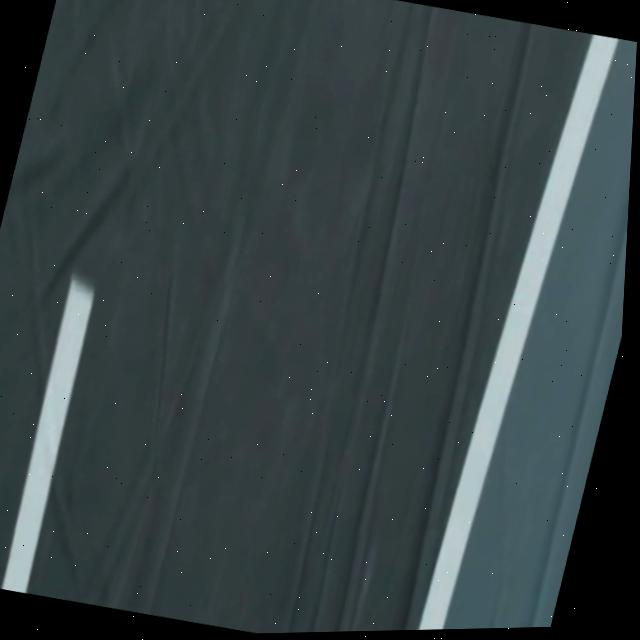center: (2, 274, 94, 594)
left: (420, 34, 620, 630)
